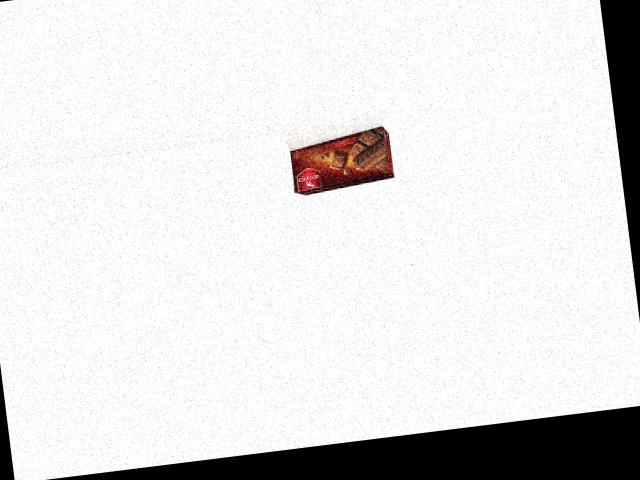chocolate: (287, 124, 393, 197)
